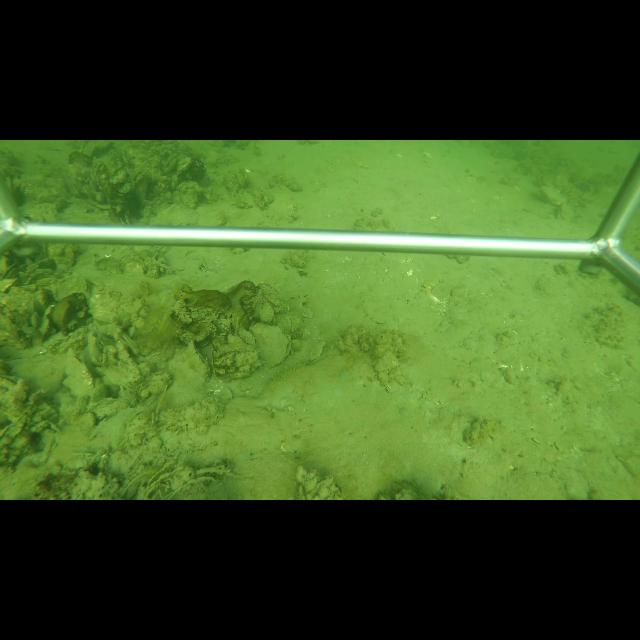Oyster-Closed: (251, 322, 293, 368), (173, 341, 212, 386), (62, 353, 95, 396), (257, 278, 282, 305)
